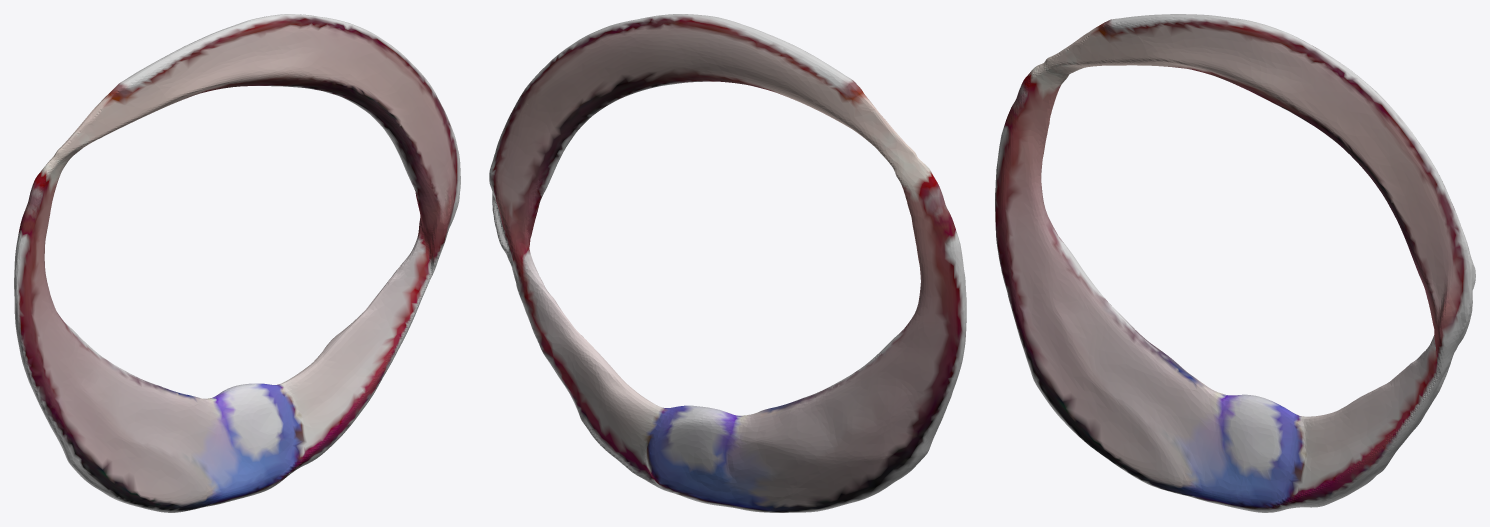
File: ring_ice.glb
3 renders of one model, left to right at view 1: azimuth 30°, elevation 25°; view 2: azimuth 150°, elevation 25°; view 3: azimuth 330°, elevation 25°, orthographic. The views are drawn at different scales.
Parts seen in each view (by area): view 1: geometry_0; view 2: geometry_0; view 3: geometry_0.
Boxes of the visible parts, <box> form: geometry_0: <box>14,14,460,512</box>; geometry_0: <box>489,14,966,512</box>; geometry_0: <box>995,14,1475,512</box>.
Bounding box in the file's own units: 0.5938 × 0.5944 × 0.0787.
